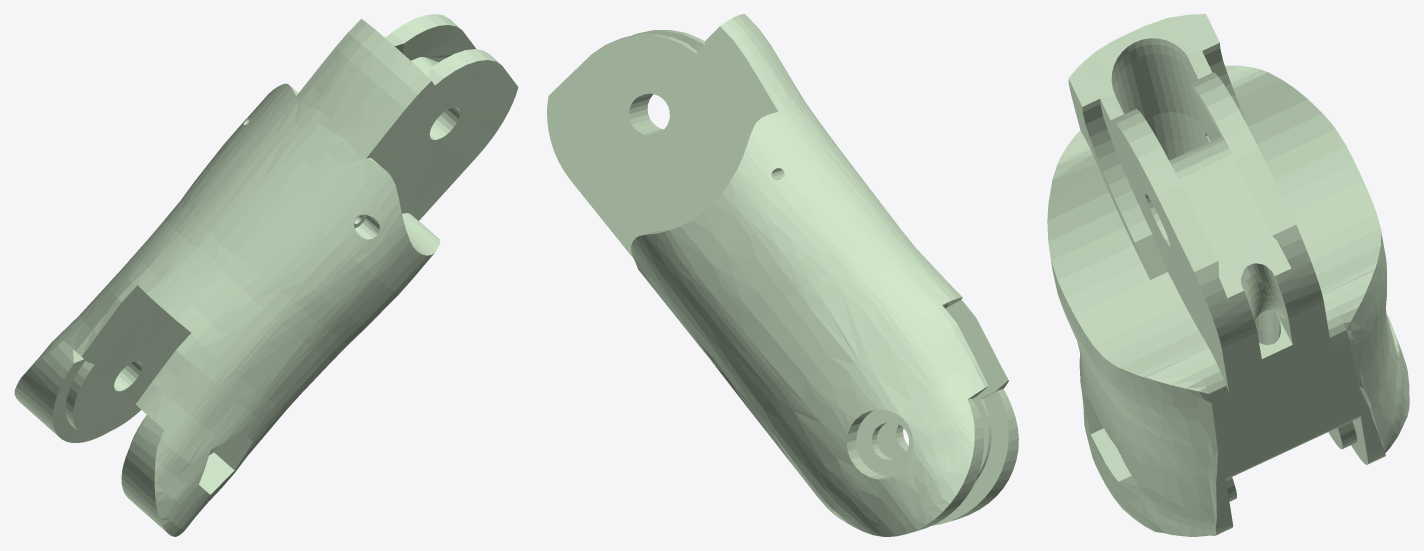
File: i02_rightHand_ThumbMid_visual.obj.balanced.glb
3 views of the same model, side by side, from view 1: azimuth 30°, elevation 25°; view 2: azimuth 150°, elevation 25°; view 3: azimuth 270°, elevation 25° (orthographic). The views are drawn at different scales.
Size of the model in its own units: 0.4503 by 0.4356 by 0.2184.
